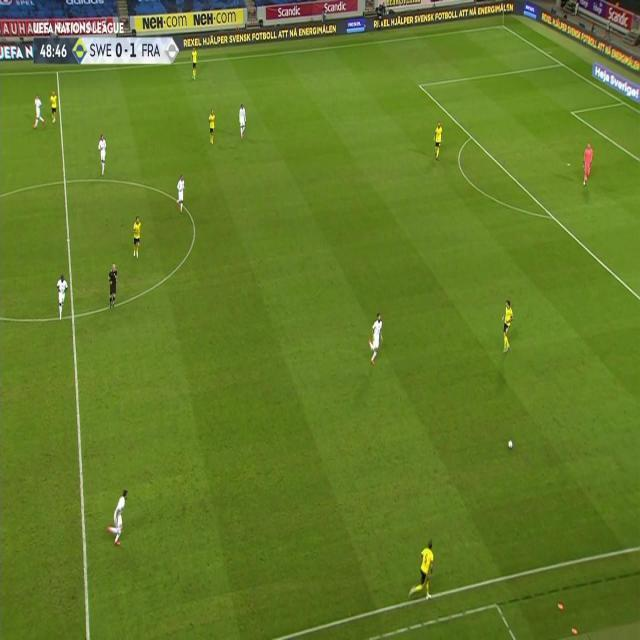ball: (508, 437, 515, 449)
goalkeeper: (580, 142, 595, 188)
player: (408, 539, 437, 603), (106, 488, 130, 548), (367, 311, 385, 367), (500, 299, 515, 353), (55, 272, 69, 321), (130, 214, 142, 259), (432, 118, 444, 161), (175, 174, 187, 215), (97, 133, 108, 176), (32, 94, 45, 128), (237, 102, 247, 140), (207, 107, 217, 145), (48, 90, 59, 124), (190, 45, 199, 80)
referee: (107, 261, 118, 311)
